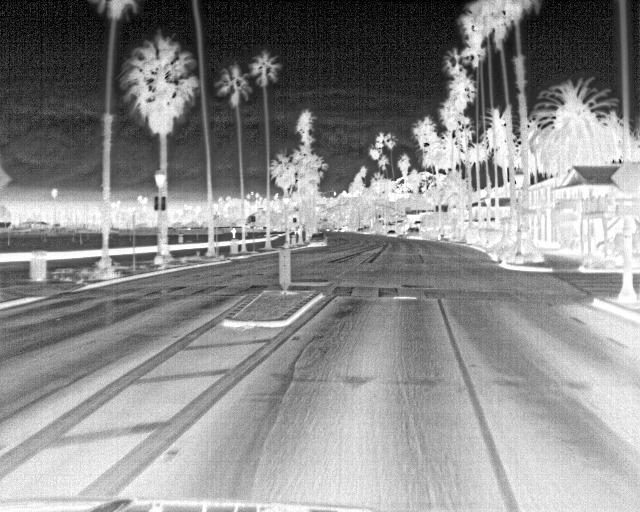car: (306, 229, 326, 248), (405, 225, 422, 240), (384, 227, 399, 239)
